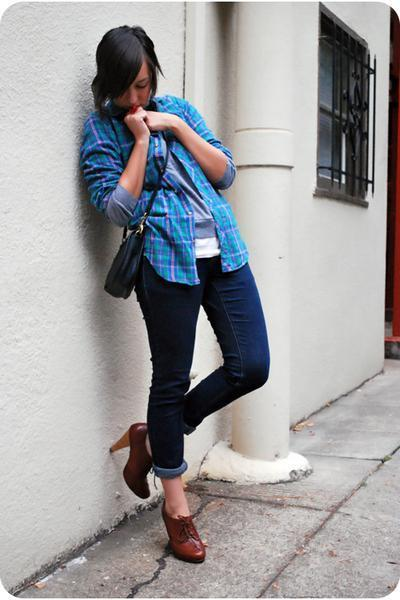bag: (104, 218, 149, 298)
jacket: (206, 138, 231, 159)
pants: (137, 254, 269, 491)
shirt: (77, 84, 247, 284), (180, 160, 225, 257)
shoe: (110, 423, 203, 563)
